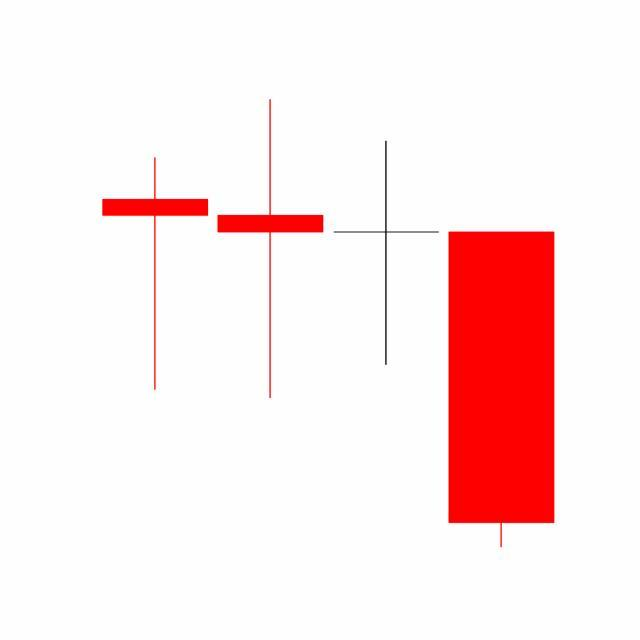Spinning Top: (329, 138, 445, 368)
